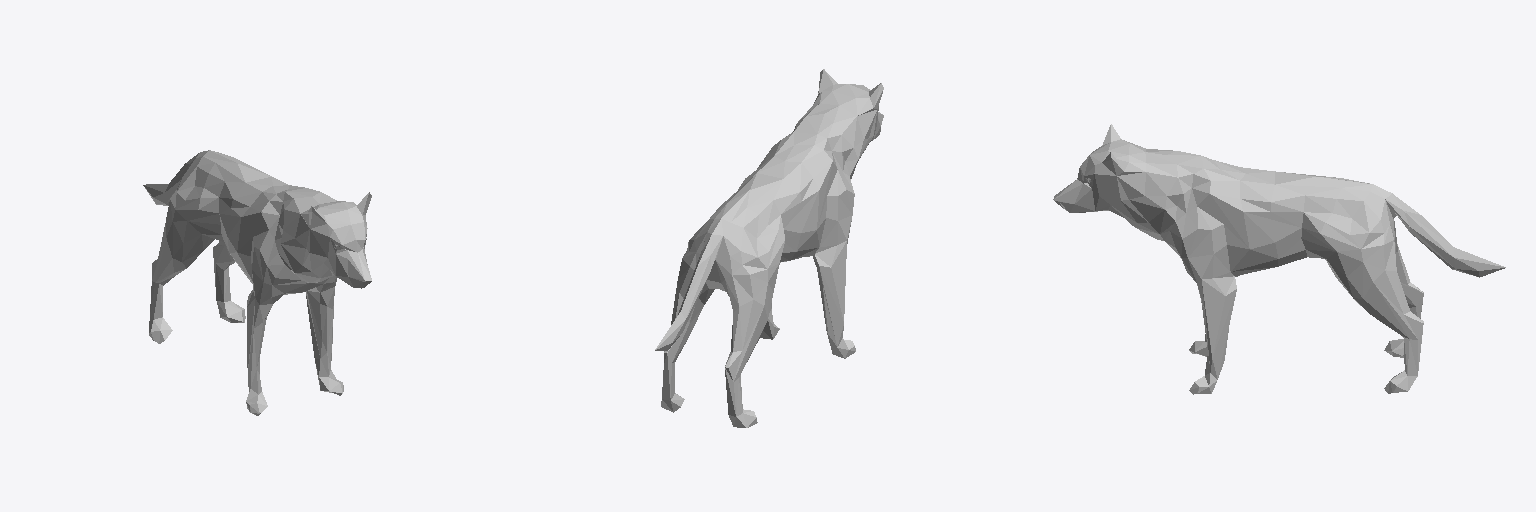
File: WOLF2.obj
3 renders of one model, left to right at view 1: azimuth 30°, elevation 25°; view 2: azimuth 150°, elevation 25°; view 3: azimuth 270°, elevation 25°, orthographic.
Visible parts, largest first — view 1: Wolf; view 2: Wolf; view 3: Wolf.
Boxes of the visible parts, x1,y1,x2,y2 form: Wolf: [143, 150, 371, 415]; Wolf: [655, 69, 883, 427]; Wolf: [1053, 124, 1505, 394].
Bounding box in the file's own units: 77.45 × 186 × 323.